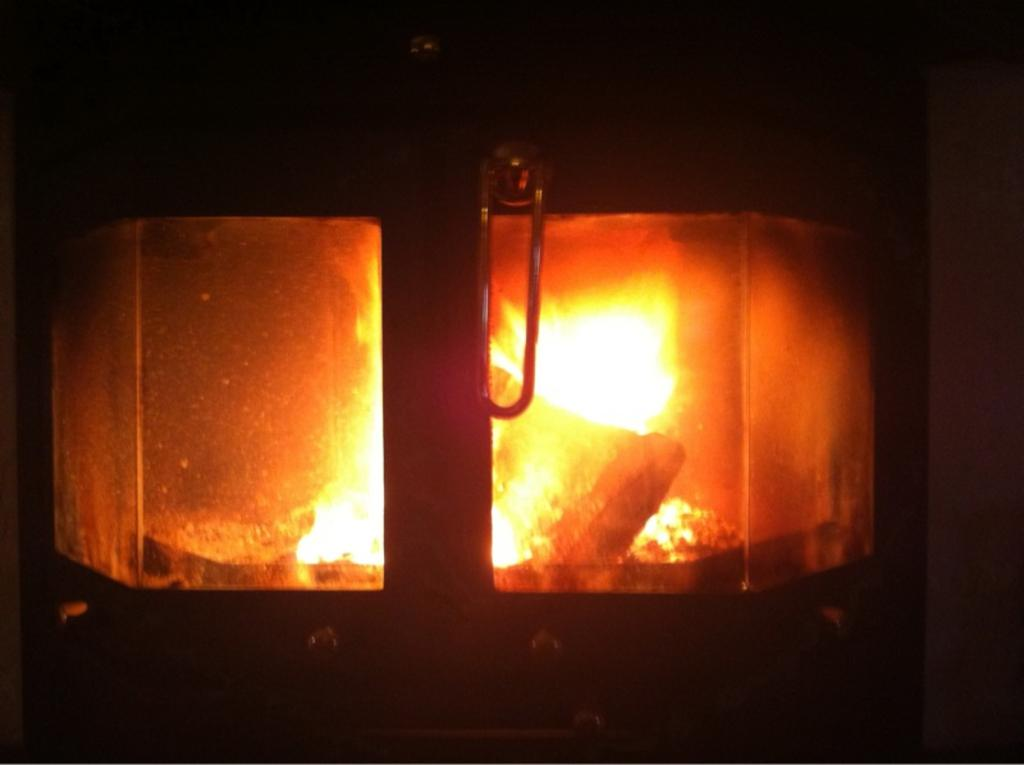Fire: (1, 1, 932, 764)
